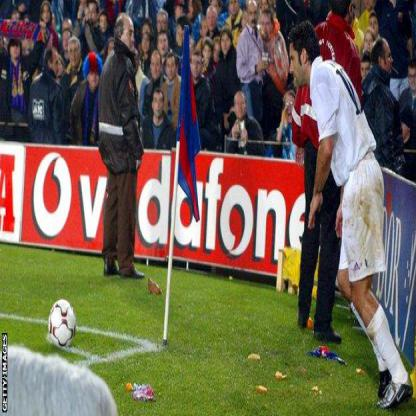corner kick: (42, 33, 213, 368)
